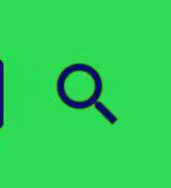ImgButton: (1, 1, 170, 187)
